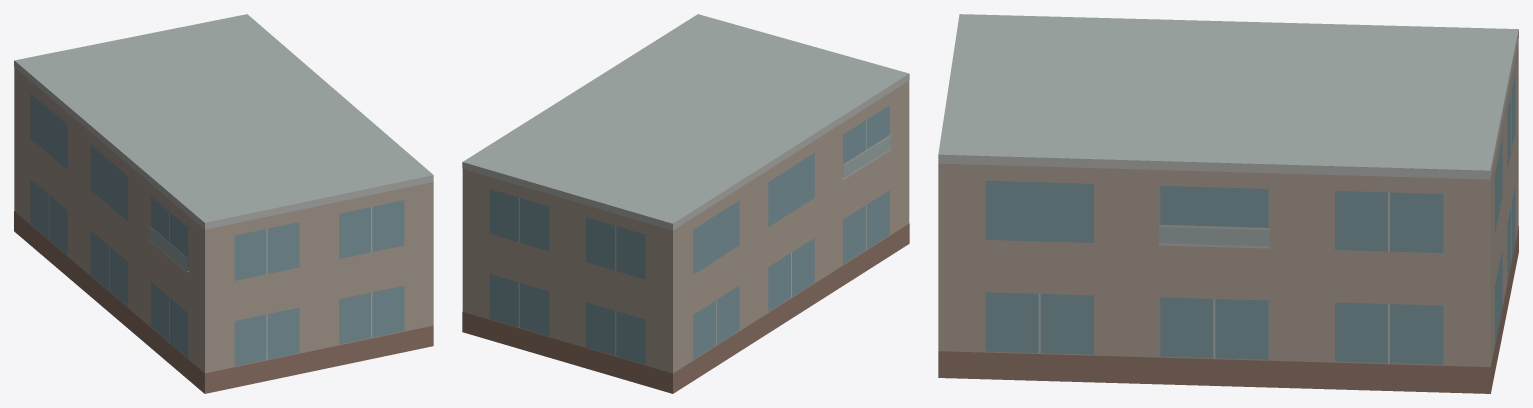
The model's file is survey-upis-32813058.glb.
3 views of the same model, side by side, from view 1: azimuth 30°, elevation 25°; view 2: azimuth 150°, elevation 25°; view 3: azimuth 270°, elevation 25° (orthographic). The views are drawn at different scales.
Visible parts, largest first — view 1: survey-upis-32813058.tmp; view 2: survey-upis-32813058.tmp; view 3: survey-upis-32813058.tmp.
Boxes of the visible parts, x1,y1,x2,y2 form: survey-upis-32813058.tmp: [14, 14, 433, 393]; survey-upis-32813058.tmp: [462, 14, 909, 393]; survey-upis-32813058.tmp: [938, 14, 1518, 393].
Size of the model in its own units: 9.19 by 6.1 by 14.39.
